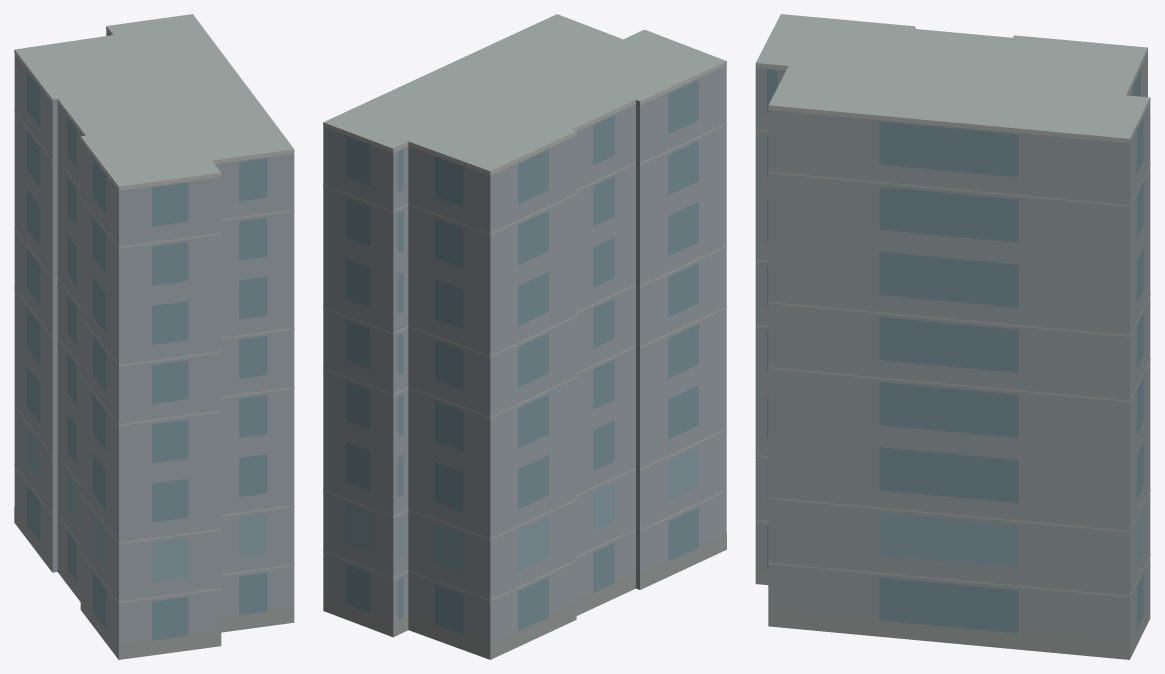
Rendered from survey-upis-32707698.glb.
3 renders of one model, left to right at view 1: azimuth 30°, elevation 25°; view 2: azimuth 150°, elevation 25°; view 3: azimuth 270°, elevation 25°, orthographic. The views are drawn at different scales.
Parts seen in each view (by area): view 1: survey-upis-32707698.tmp; view 2: survey-upis-32707698.tmp; view 3: survey-upis-32707698.tmp.
Part boxes in pixels (box(x1,y1,x2,y2)): survey-upis-32707698.tmp: box(14, 14, 294, 659); survey-upis-32707698.tmp: box(323, 14, 726, 659); survey-upis-32707698.tmp: box(755, 14, 1150, 659).
Bounding box in the file's own units: 14.62 × 28.4 × 19.52.
